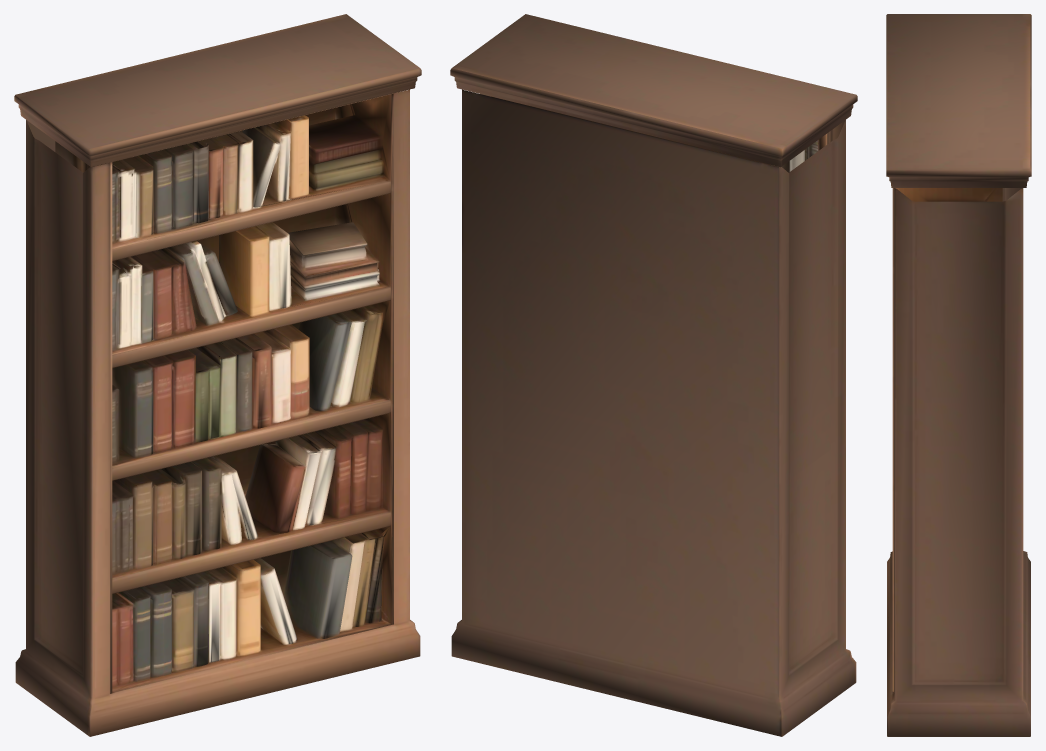
The model's file is bookshelf_realistic_style_3d6a7c59_v3.glb.
3 views of the same model, side by side, from view 1: azimuth 30°, elevation 25°; view 2: azimuth 150°, elevation 25°; view 3: azimuth 270°, elevation 25° (orthographic). The views are drawn at different scales.
Visible parts, largest first — view 1: texture_pbr_20250901; view 2: texture_pbr_20250901; view 3: texture_pbr_20250901.
Boxes of the visible parts, left/top/right/bottom form: texture_pbr_20250901: left=14, top=14, right=421, bottom=736; texture_pbr_20250901: left=450, top=14, right=857, bottom=736; texture_pbr_20250901: left=886, top=14, right=1031, bottom=736.
Size of the model in its own units: 1.12 by 1.9 by 0.4414.
Materials: 1 (1 with a texture image).
